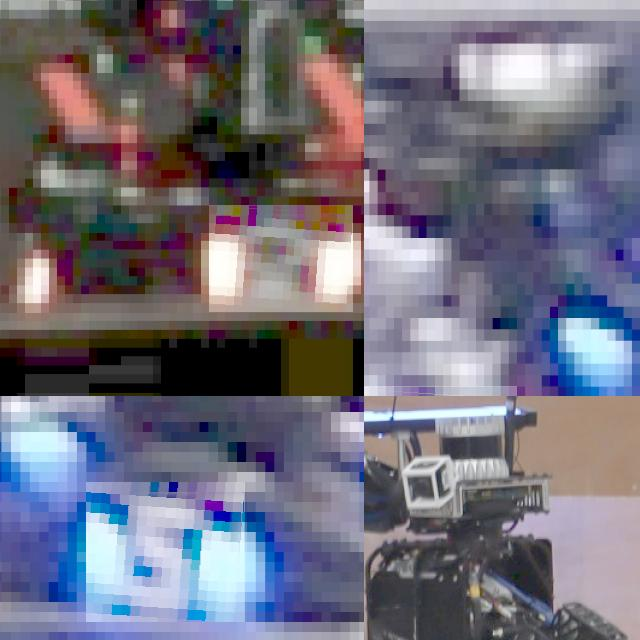B5: (86, 482, 246, 622)
Rs: (209, 205, 353, 312)
